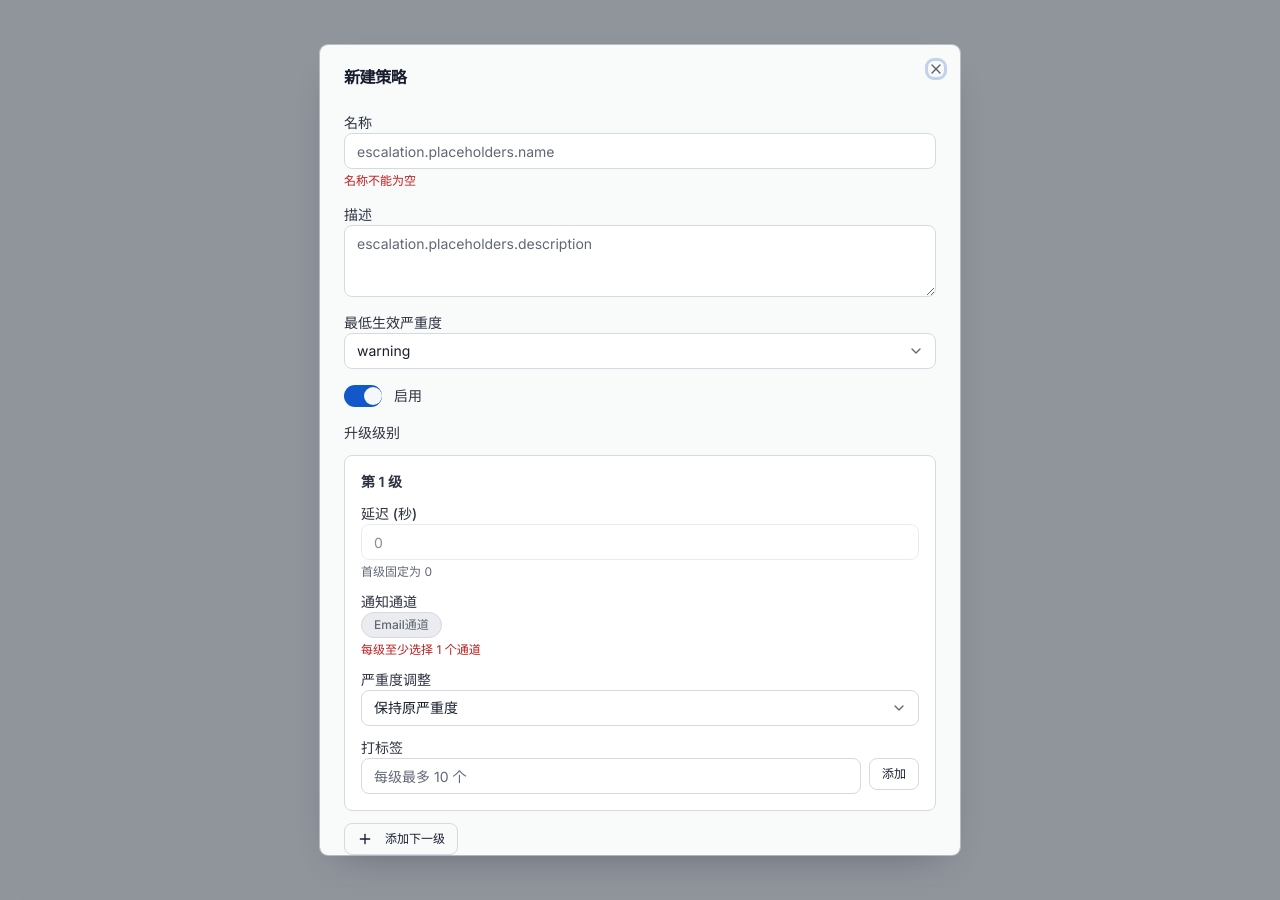
Scenario: EscalationPolicyEditor › validation: empty name blocks Save button
This screenshot has width=1280, height=900.
Click the button "Email通道": (401, 625) [361,612,442,638]
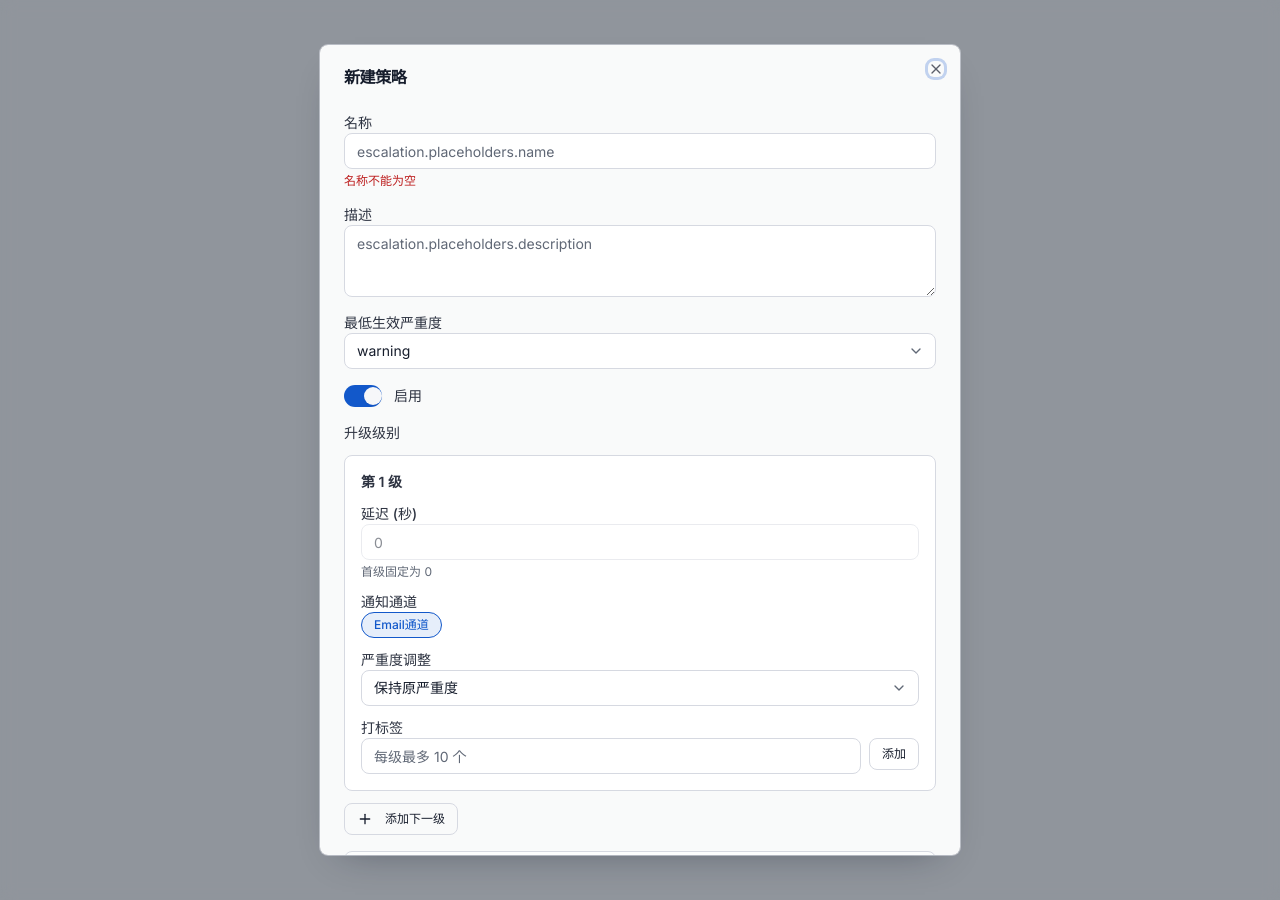
In the field labelled "名称": (640, 151) [344,133,936,169], type "ok"
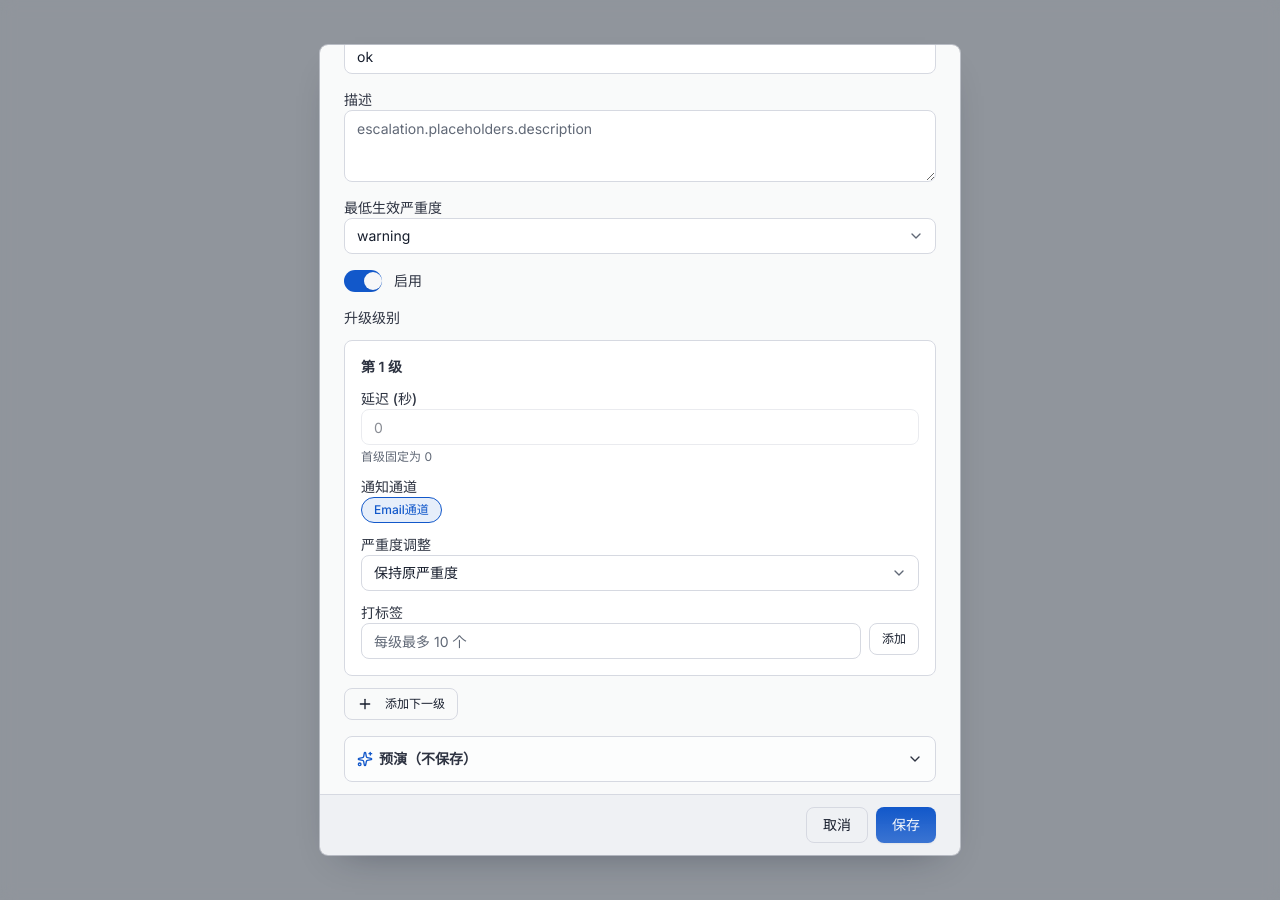
Expected: the button "保存" is enabled, [876,807,936,843]
